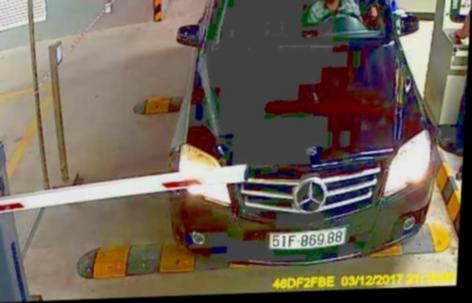License_Plate: (268, 225, 348, 251)
